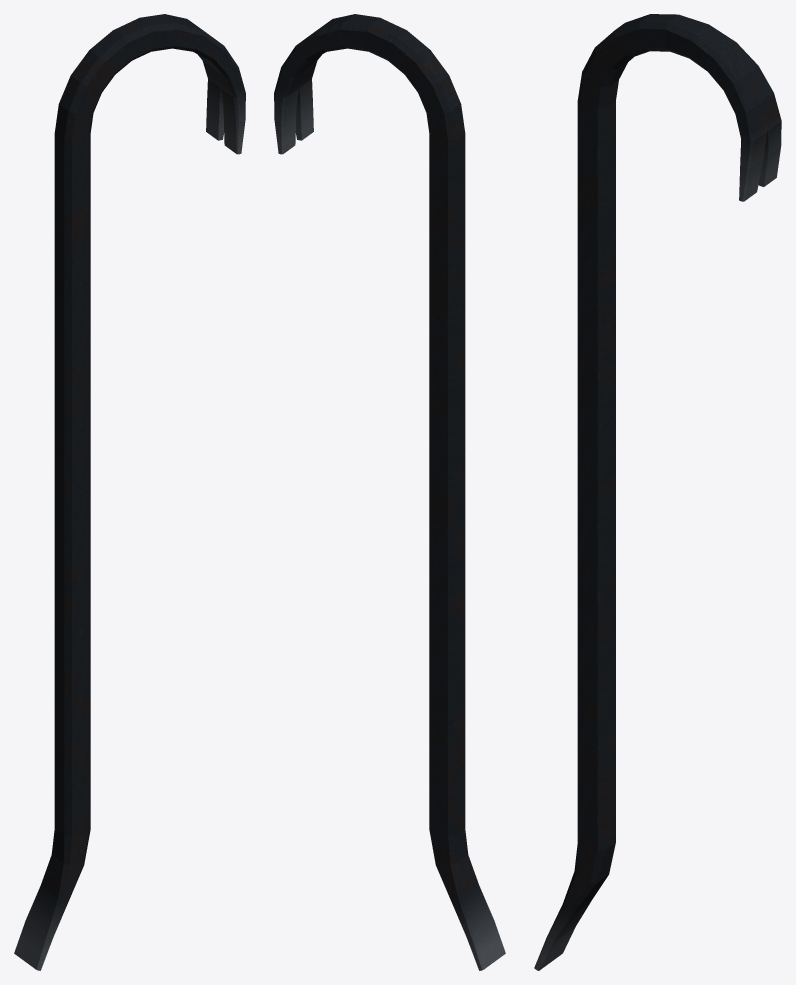
Rendered from hooked_crowbar_LOD2.glb.
3 views of the same model, side by side, from view 1: azimuth 30°, elevation 25°; view 2: azimuth 150°, elevation 25°; view 3: azimuth 330°, elevation 25° (orthographic). The views are drawn at different scales.
Visible parts, largest first — view 1: Forged_Bar; view 2: Forged_Bar; view 3: Forged_Bar.
Boxes of the visible parts, x1,y1,x2,y2 form: Forged_Bar: (14, 14, 245, 970); Forged_Bar: (274, 14, 505, 970); Forged_Bar: (534, 14, 781, 970).
Size of the model in its own units: 0.1745 by 0.7326 by 0.046.
Materials: 1 (1 with a texture image).
